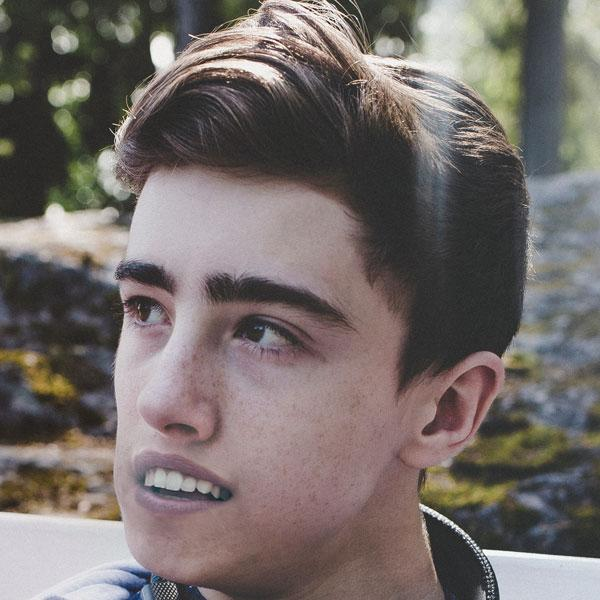Eyes: (219, 301, 317, 365), (114, 286, 178, 338)
